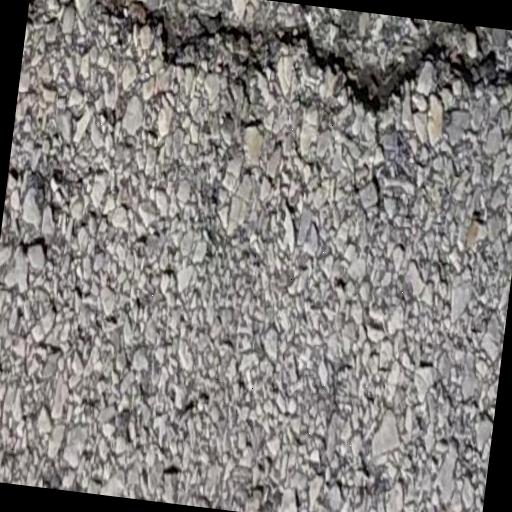spalling: (73, 0, 512, 120)
